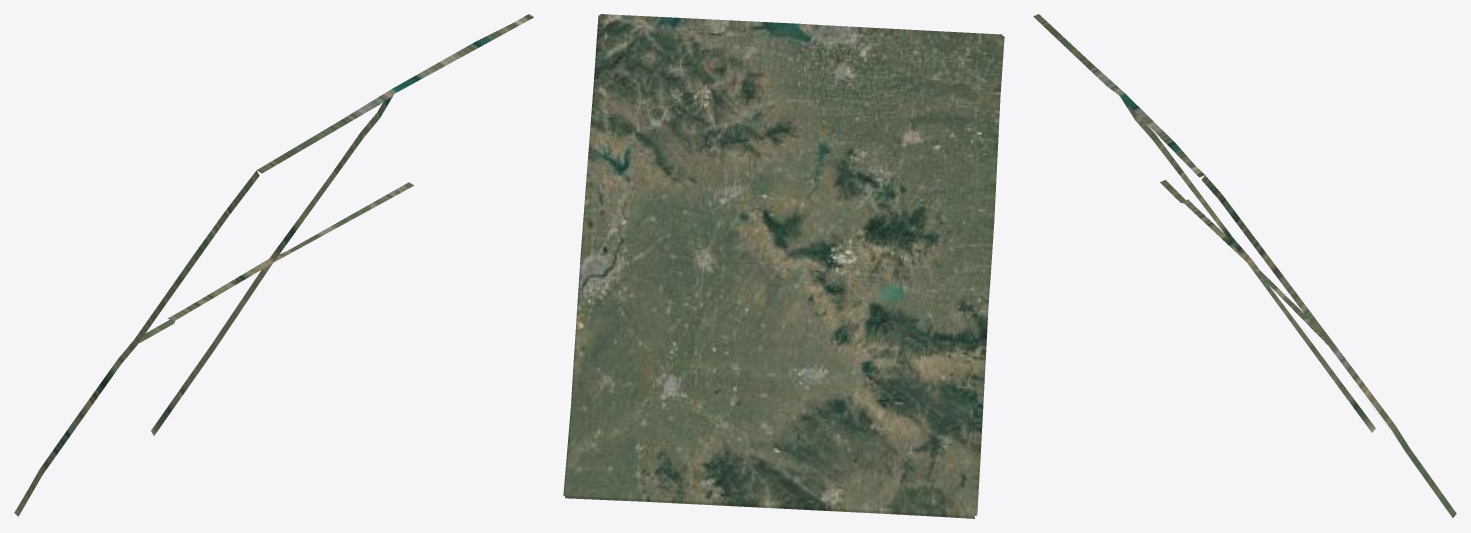
3 renders of one model, left to right at view 1: azimuth 30°, elevation 25°; view 2: azimuth 150°, elevation 25°; view 3: azimuth 270°, elevation 25°, orthographic. The views are drawn at different scales.
Size of the model in its own units: 155910 by 133671 by 132323.
Materials: 1 (1 with a texture image).
